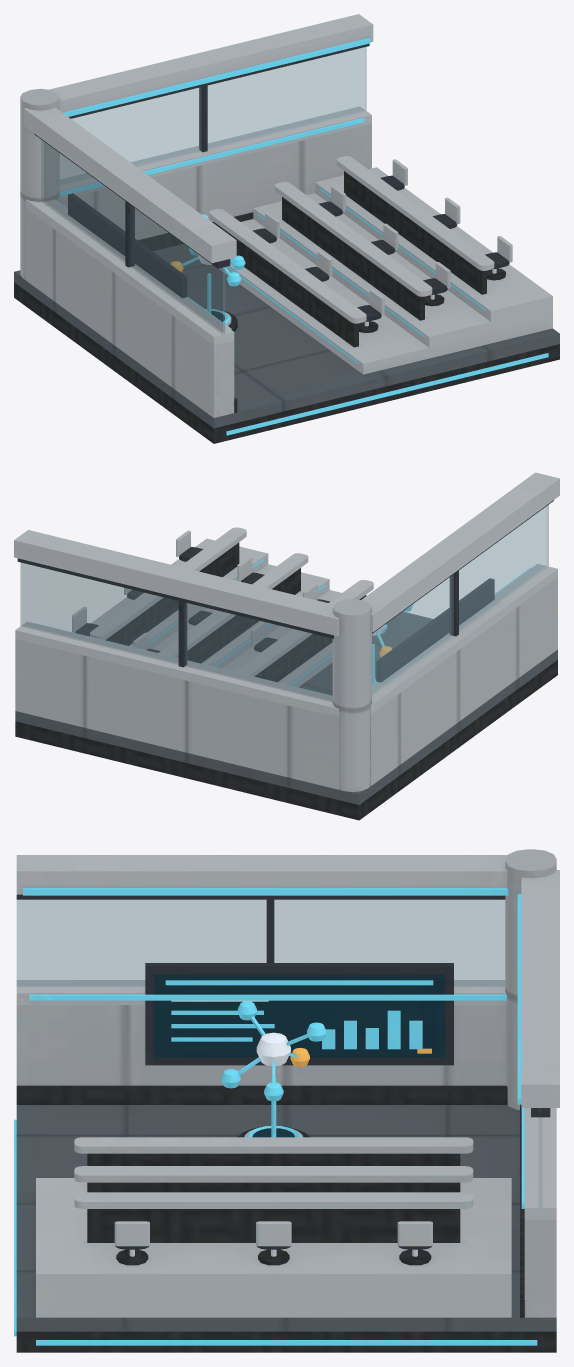
Rendered from enterprise_academy.glb.
3 views of the same model, one above another, from view 1: azimuth 30°, elevation 25°; view 2: azimuth 150°, elevation 25°; view 3: azimuth 270°, elevation 25° (orthographic). The views are drawn at different scales.
Visible parts, largest first — view 1: te_enterprise_academy, move_sensor; view 2: te_enterprise_academy; view 3: te_enterprise_academy, move_sensor.
Boxes of the visible parts, bbox=[...] form: te_enterprise_academy: bbox=[14, 14, 559, 443]; move_sensor: bbox=[170, 214, 245, 286]; te_enterprise_academy: bbox=[14, 472, 559, 820]; te_enterprise_academy: bbox=[14, 849, 559, 1352]; move_sensor: bbox=[221, 1001, 326, 1101].
Bounding box in the file's own units: 0.849 × 0.472 × 0.849.
Materials: 2 (1 with a texture image).
